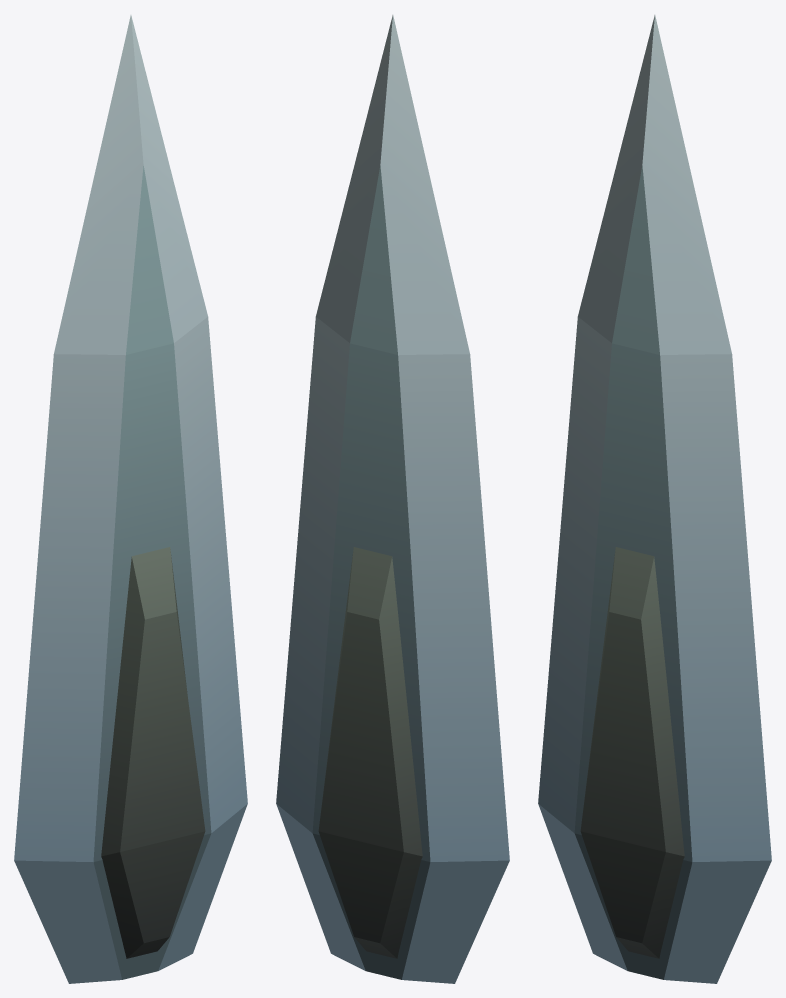
File: blade_008.fbx
3 views of the same model, side by side, from view 1: azimuth 30°, elevation 25°; view 2: azimuth 150°, elevation 25°; view 3: azimuth 330°, elevation 25° (orthographic).
Visible parts, largest first — view 1: blade.008; view 2: blade.008; view 3: blade.008.
Boxes of the visible parts, x1=… form: blade.008: x1=14, y1=15, x2=247, y2=983; blade.008: x1=276, y1=15, x2=509, y2=983; blade.008: x1=538, y1=15, x2=771, y2=983.
Size of the model in its own units: 20.72 by 80.85 by 9.75.
